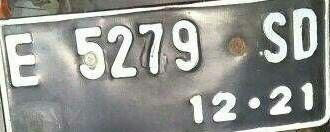clone-license-plate: (0, 0, 327, 131)
